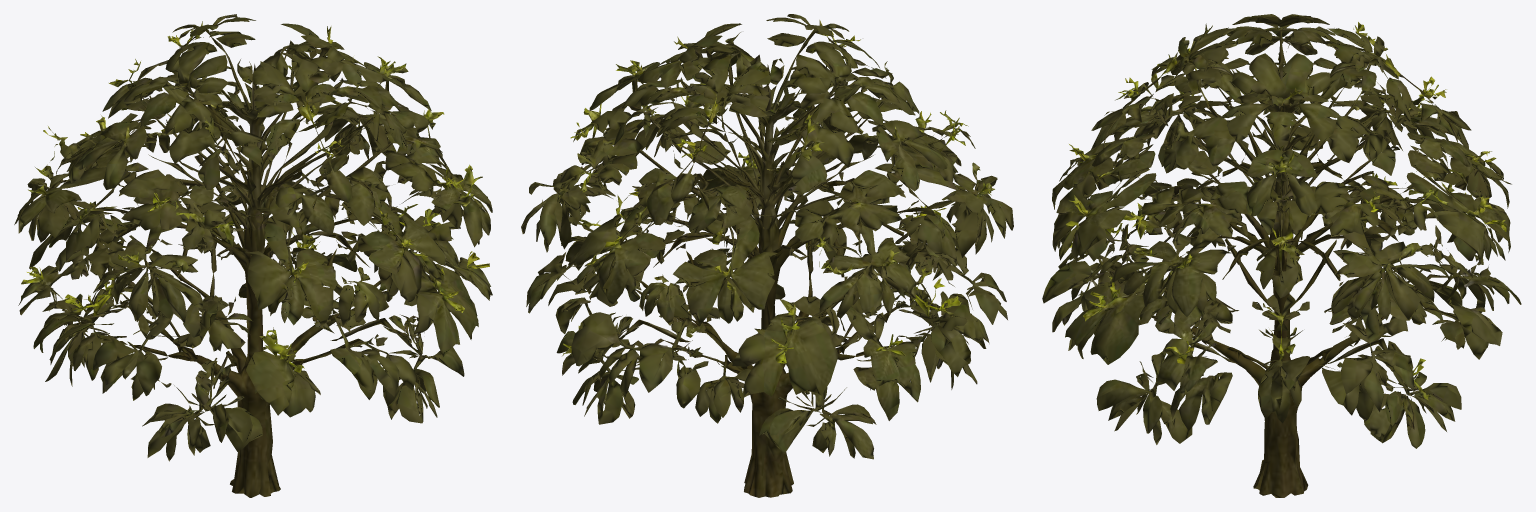
Rendered from MongolianOak.glb.
The picture shows the model from 3 angles, left to right: view 1: azimuth 30°, elevation 25°; view 2: azimuth 150°, elevation 25°; view 3: azimuth 270°, elevation 25°; orthographic projection.
Visible parts, largest first — view 1: Mesh_0; view 2: Mesh_0; view 3: Mesh_0.
Boxes of the visible parts, left/top/right/bottom form: Mesh_0: left=14, top=14, right=492, bottom=497; Mesh_0: left=521, top=14, right=1013, bottom=497; Mesh_0: left=1042, top=14, right=1521, bottom=497.
Bounding box in the file's own units: 0.9499 × 1 × 0.9586.
Materials: 1 (1 with a texture image).
